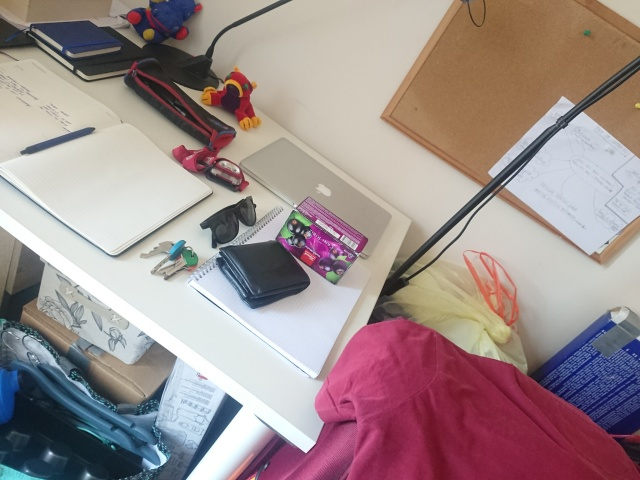Franck Black Currant Tea 60g: (272, 194, 370, 287)
